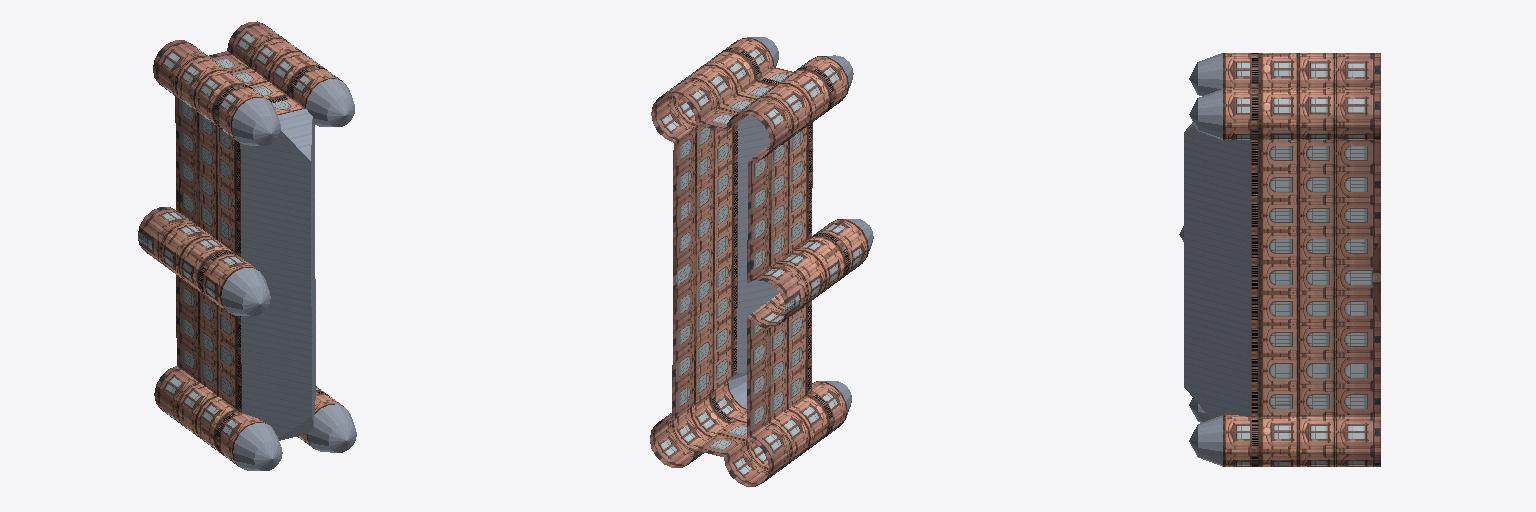
The picture shows the model from 3 angles: view 1: azimuth 30°, elevation 25°; view 2: azimuth 150°, elevation 25°; view 3: azimuth 270°, elevation 25°; orthographic projection.
Visible parts, largest first — view 1: DEU_604_KARLSRUHE_SCHLOSS_S; view 2: DEU_604_KARLSRUHE_SCHLOSS_S; view 3: DEU_604_KARLSRUHE_SCHLOSS_S.
Part boxes in pixels (x1,y1,x2,y2): DEU_604_KARLSRUHE_SCHLOSS_S: (138, 21, 356, 470); DEU_604_KARLSRUHE_SCHLOSS_S: (650, 37, 873, 486); DEU_604_KARLSRUHE_SCHLOSS_S: (1179, 53, 1380, 466).
Size of the model in its own units: 24.18 by 63.34 by 31.01.
Materials: 1 (1 with a texture image).